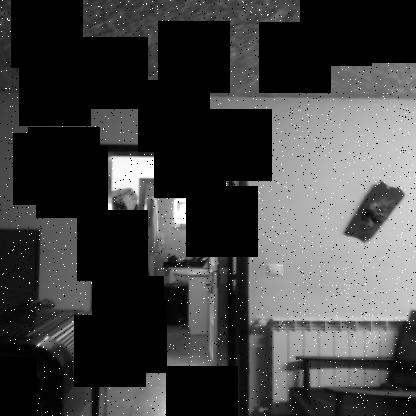Porte: (90, 141, 251, 415)
